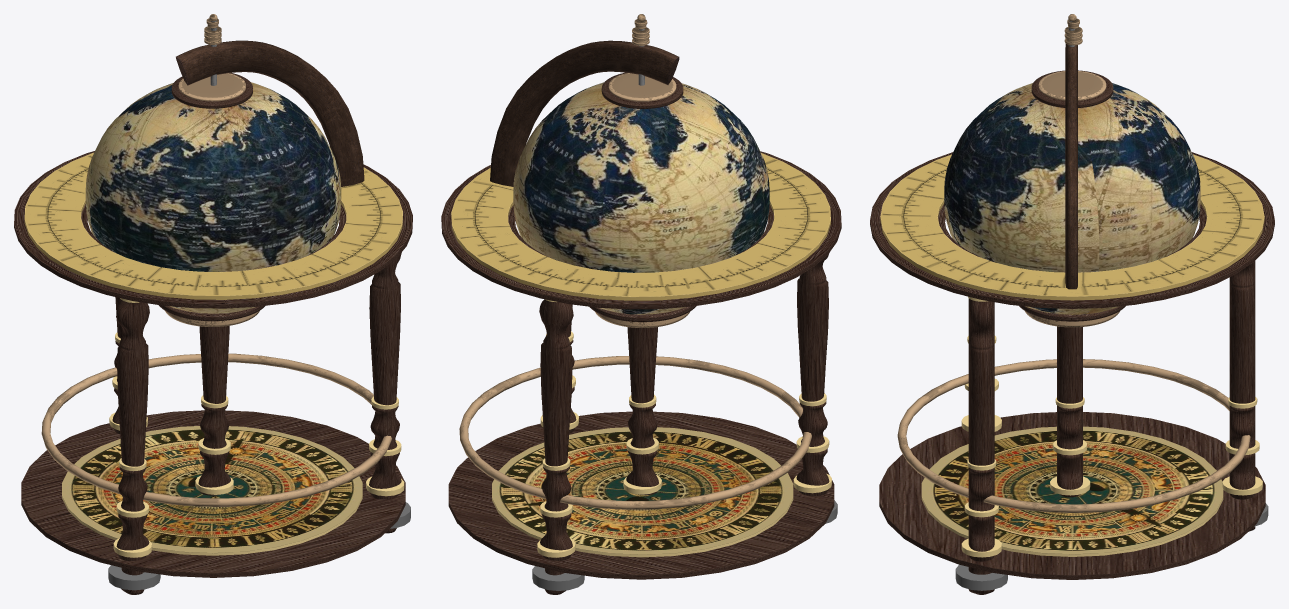
Rendered from first-light-3.glb.
The picture shows the model from 3 angles, left to right: view 1: azimuth 30°, elevation 25°; view 2: azimuth 150°, elevation 25°; view 3: azimuth 270°, elevation 25°; orthographic projection.
Visible parts, largest first — view 1: pSphere1, pCylinder15, pPipe1, pCylinder14, polySurface1 (×3), pPipe3, pPipe5, pPipe4, pCylinder27, pCylinder26, pCylinder9, pCylinder17; view 2: pSphere1, pCylinder15, pPipe1, pCylinder14, polySurface1 (×3), pPipe3, pPipe5, pPipe4, pCylinder27, pCylinder26, pCylinder10, pCylinder17 (+1 smaller); view 3: pSphere1, pCylinder15, pPipe1, pCylinder14, polySurface1 (×3), pPipe5, pPipe4, pPipe3, pCylinder27, pCylinder11, pCylinder26, pCylinder17 (+1 smaller).
Boxes of the visible parts, left/top/right/bottom form: pSphere1: left=85, top=82, right=341, bottom=313; pCylinder15: left=62, top=426, right=362, bottom=555; pPipe1: left=24, top=152, right=402, bottom=299; pCylinder14: left=21, top=410, right=405, bottom=577; polySurface1 (×3): left=116, top=252, right=401, bottom=594; pPipe3: left=176, top=40, right=364, bottom=186; pPipe5: left=41, top=353, right=391, bottom=506; pPipe4: left=14, top=151, right=412, bottom=308; pCylinder27: left=178, top=73, right=245, bottom=101; pCylinder26: left=171, top=73, right=252, bottom=108; pCylinder9: left=108, top=565, right=160, bottom=590; pCylinder17: left=158, top=305, right=265, bottom=321; pSphere1: left=513, top=82, right=769, bottom=314; pCylinder15: left=492, top=427, right=793, bottom=557; pPipe1: left=451, top=153, right=830, bottom=300; pCylinder14: left=448, top=411, right=834, bottom=579; polySurface1 (×3): left=539, top=253, right=829, bottom=594; pPipe3: left=490, top=40, right=679, bottom=186; pPipe5: left=459, top=356, right=811, bottom=509; pPipe4: left=441, top=151, right=841, bottom=309; pCylinder27: left=608, top=73, right=676, bottom=101; pCylinder26: left=601, top=72, right=683, bottom=108; pCylinder10: left=532, top=566, right=584, bottom=590; pCylinder17: left=589, top=306, right=696, bottom=322; pSphere1: left=944, top=83, right=1200, bottom=314; pCylinder15: left=921, top=426, right=1223, bottom=556; pPipe1: left=880, top=154, right=1264, bottom=300; pCylinder14: left=879, top=412, right=1265, bottom=579; polySurface1 (×3): left=968, top=261, right=1255, bottom=594; pPipe5: left=897, top=359, right=1250, bottom=512; pPipe4: left=870, top=152, right=1274, bottom=308; pPipe3: left=1065, top=43, right=1077, bottom=289; pCylinder27: left=1038, top=71, right=1106, bottom=100; pCylinder11: left=955, top=564, right=1007, bottom=590; pCylinder26: left=1031, top=70, right=1113, bottom=107; pCylinder17: left=1019, top=305, right=1125, bottom=321.
Bounding box in the file's own units: 0.1518 × 0.2161 × 0.1537.
Materials: 20 (19 with a texture image).
